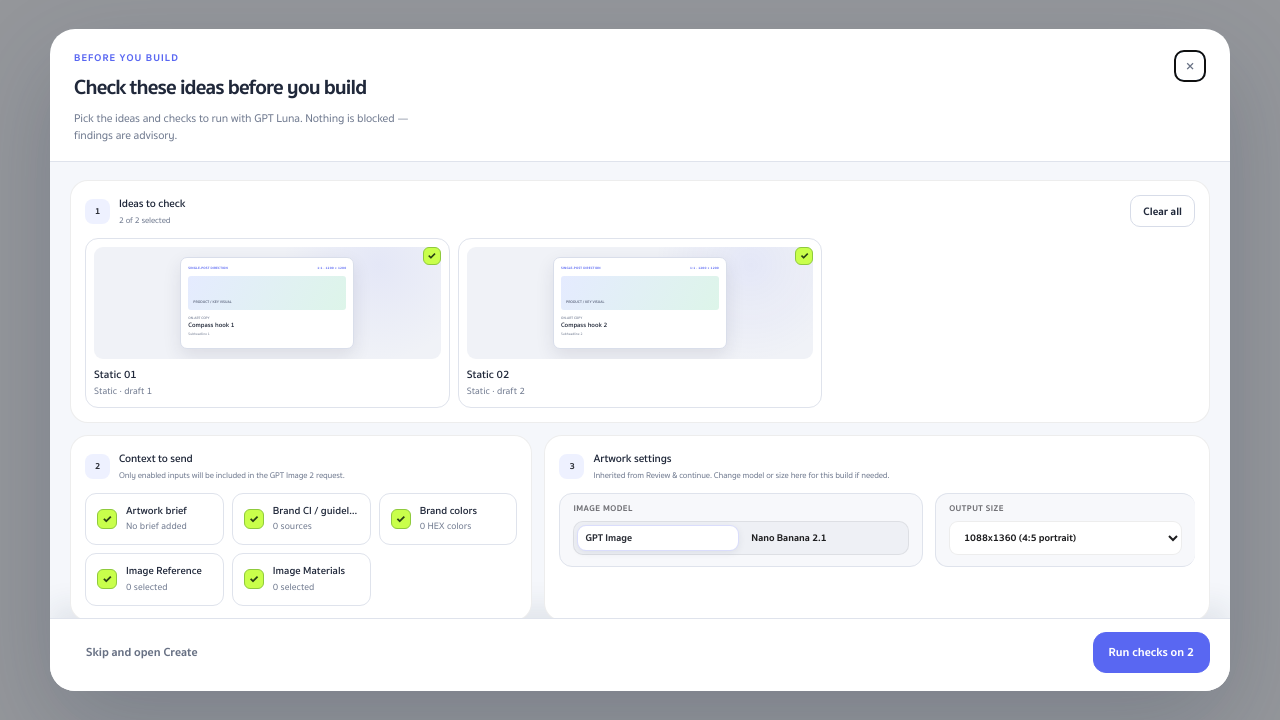
it: PreflightModal › applies every fixable finding across ideas in one click
The image size is (1280, 720).
Click the button "Run checks on 2" at {"x": 1151, "y": 653}, box top-left (1093, 632), bottom-right (1210, 673)
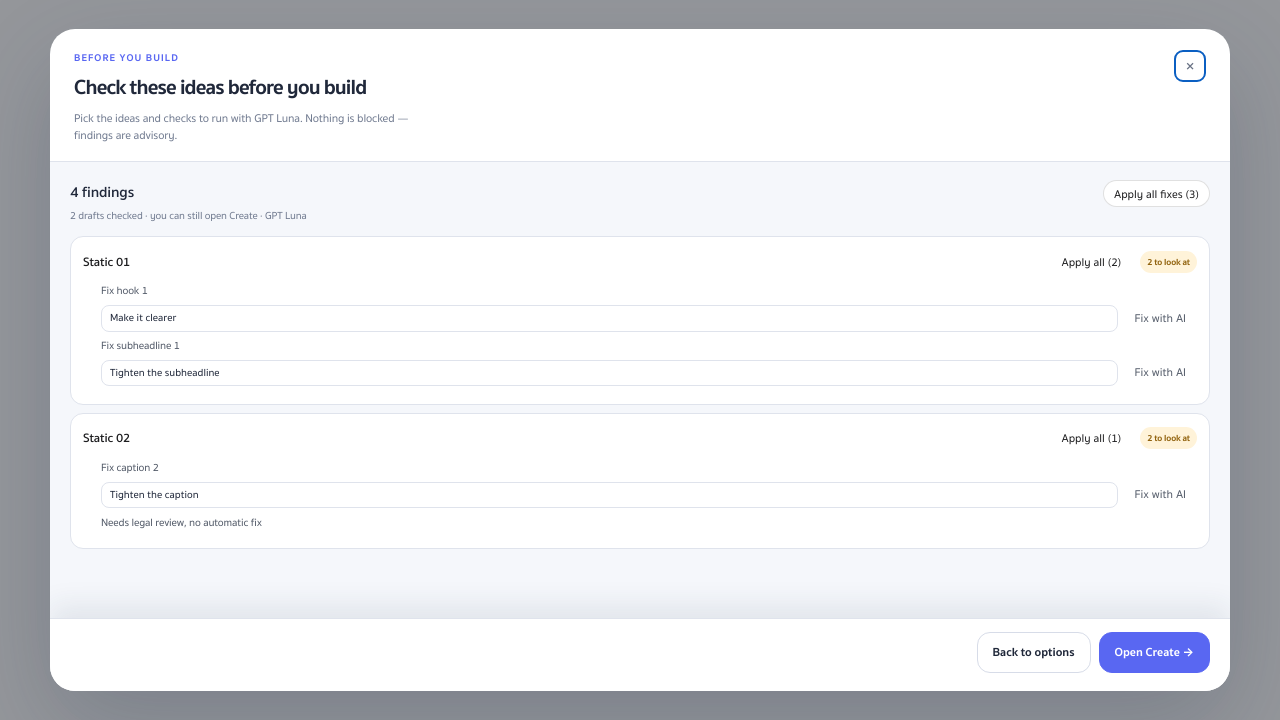
Result: the text "Fix hook 1" is shown at top-left (101, 282), bottom-right (148, 299)
Click the button "Apply all fixes (3)" at {"x": 1156, "y": 194}, box top-left (1103, 180), bottom-right (1210, 207)
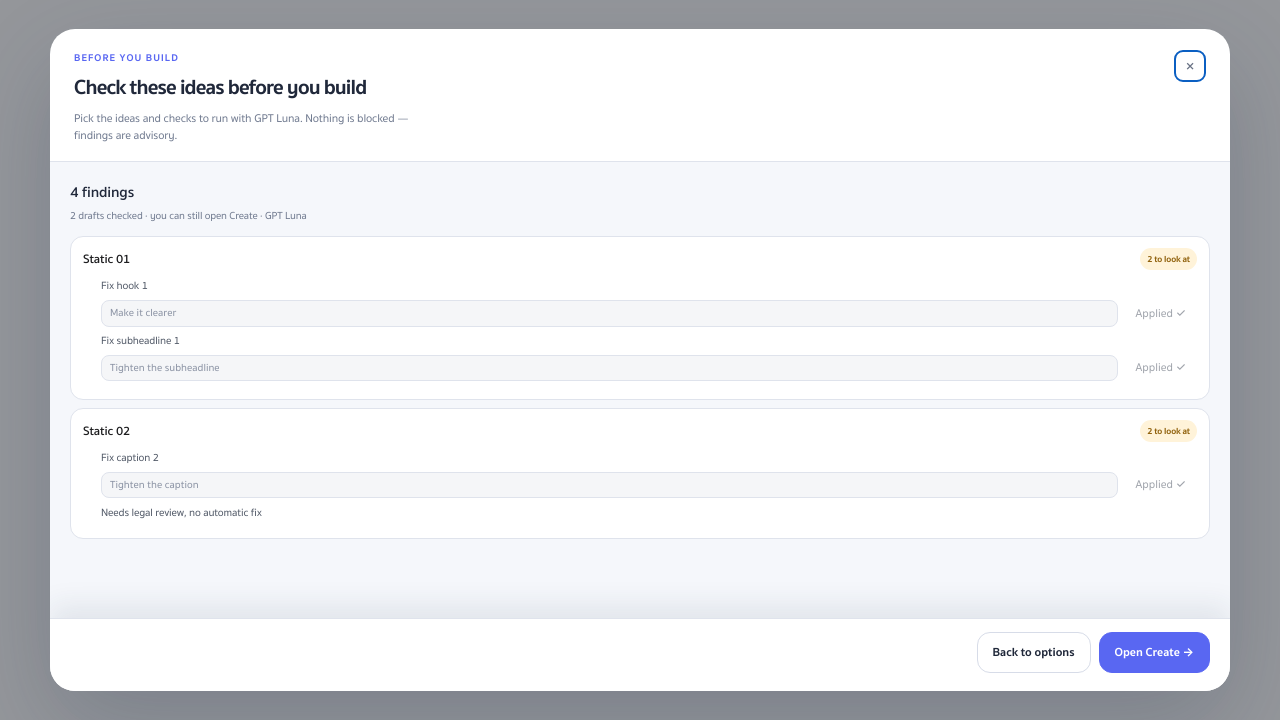
Result: the number of buttons "Applied ✓" is 3 at top-left (1124, 300), bottom-right (1197, 327); top-left (1124, 355), bottom-right (1197, 382); top-left (1124, 472), bottom-right (1197, 498)
Result: the button "Apply all fixes" is gone
